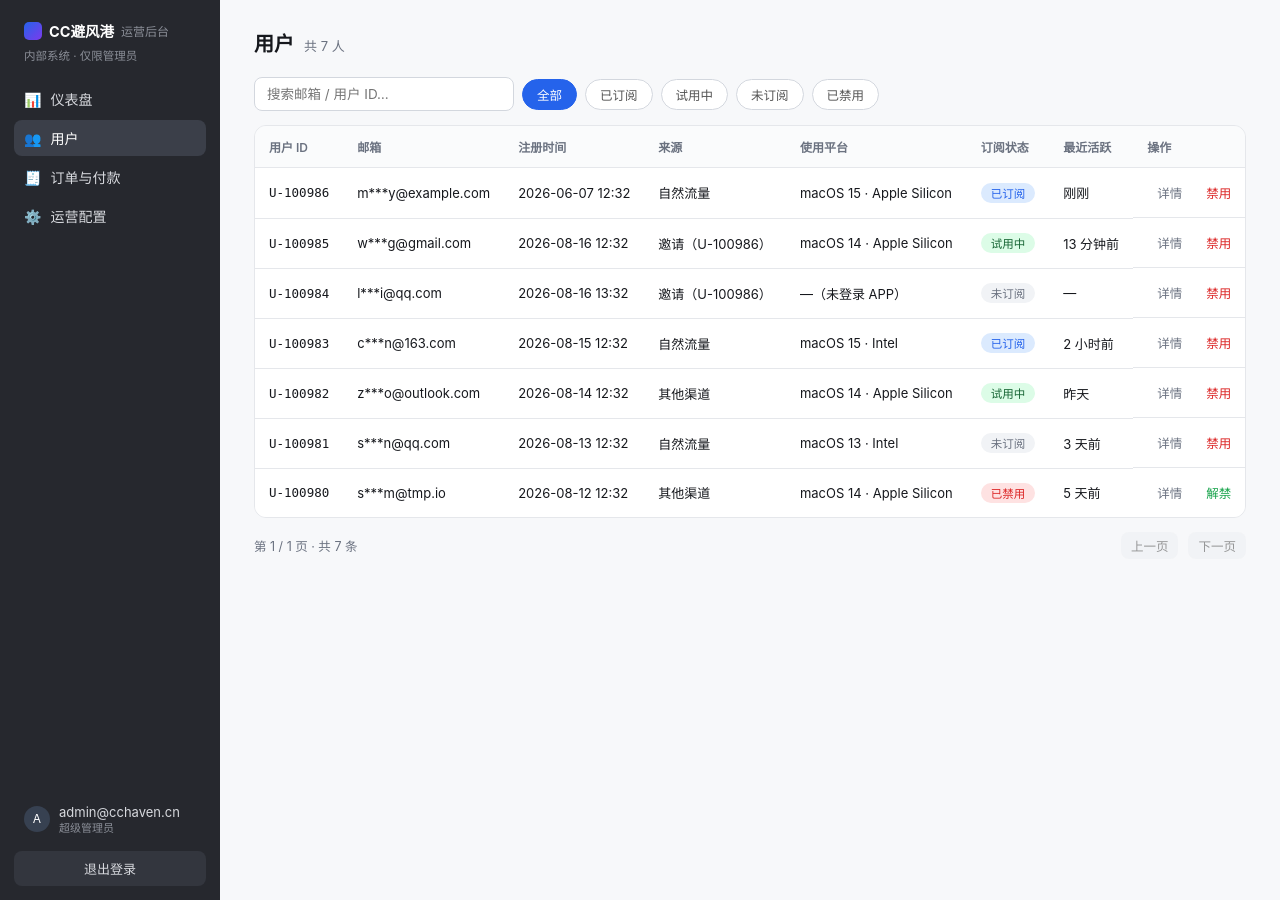
用户页 › 确认框可用 Esc 关闭且不执行操作
Expected: the cell "U-100986" is shown, [255, 168, 343, 218]
Click the button "禁用" in the row of "m***y@example.com".
click(1219, 192)  # box [1196, 179, 1241, 206]
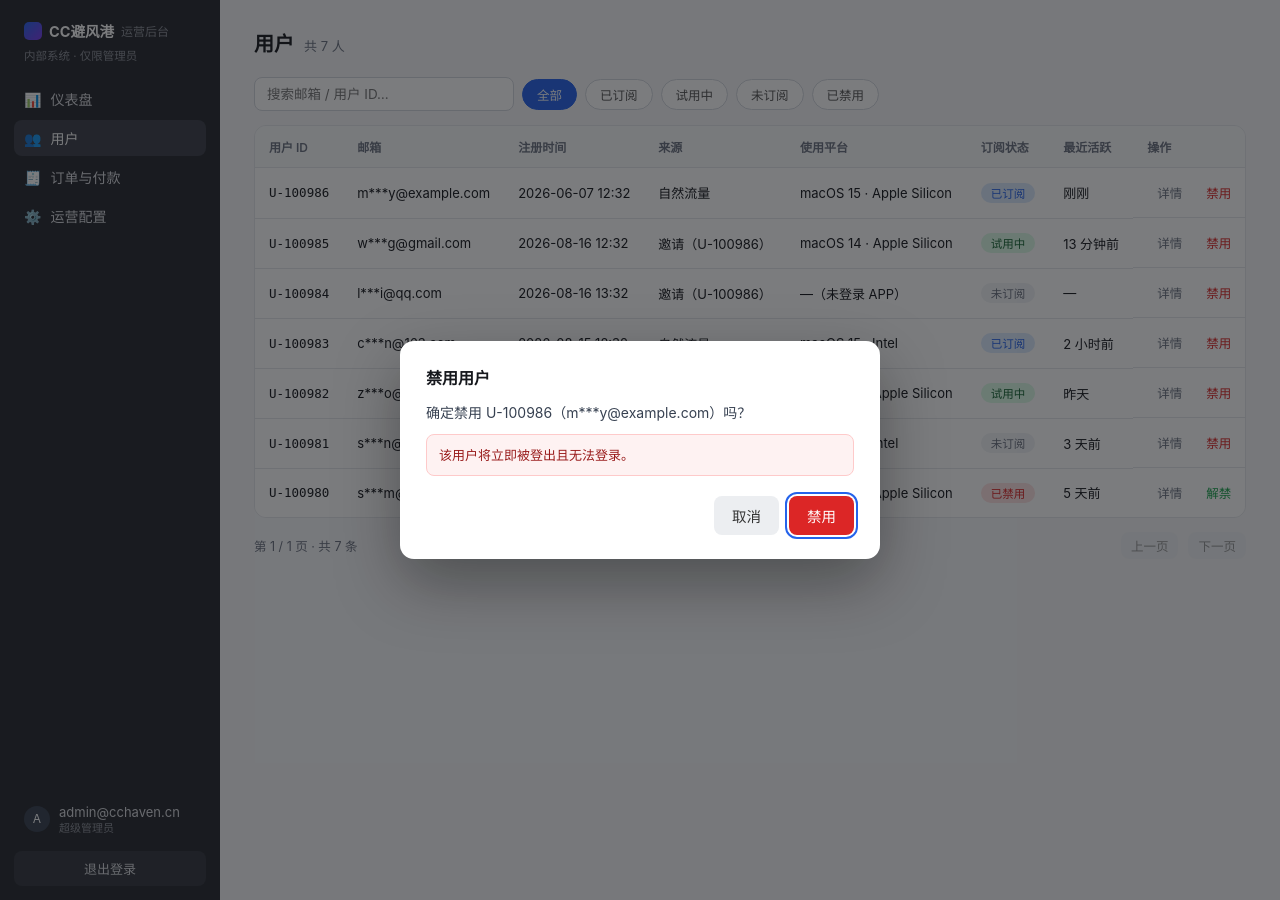
Expected: the dialog is shown, [400, 340, 880, 559]
Press Escape
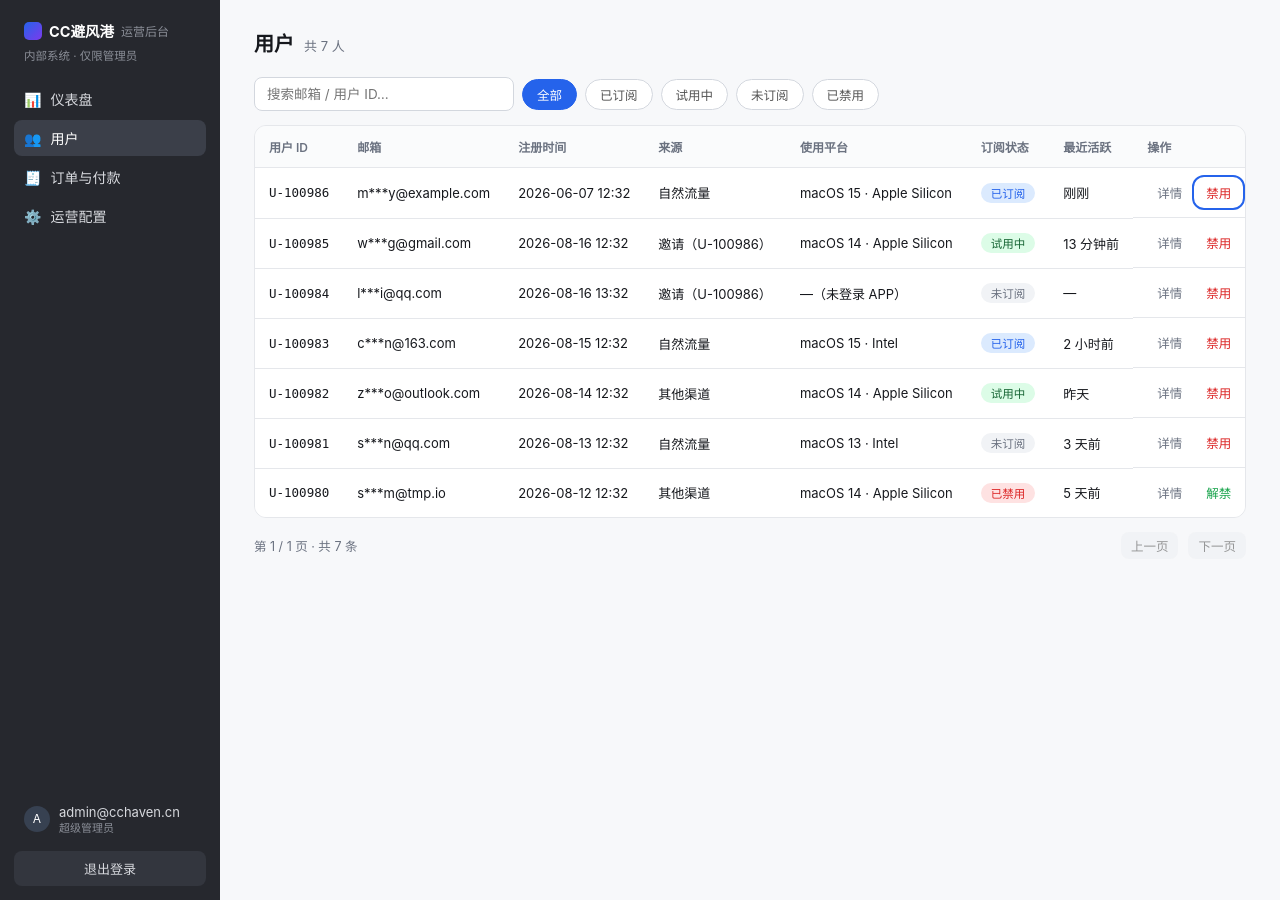
Expected: the text "已订阅" in the row of "m***y@example.com" is shown, [991, 187, 1025, 201]
Expected: the dialog is gone
